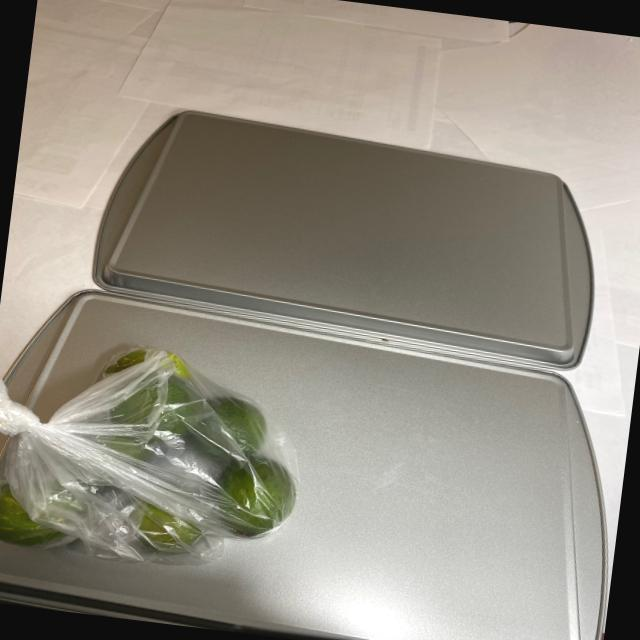lemon: (0, 327, 310, 588)
